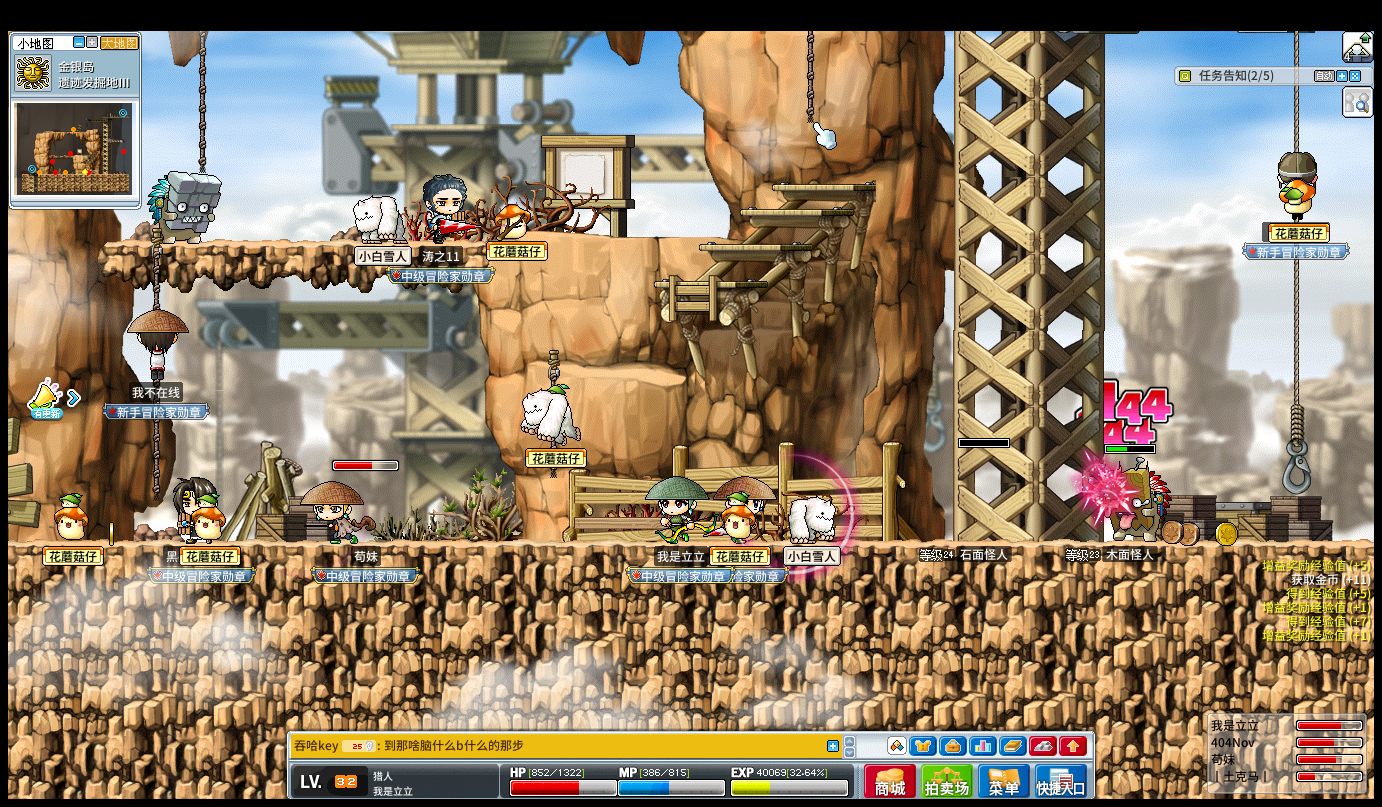floor: (8, 537, 1374, 553), (103, 238, 480, 250), (582, 364, 687, 388), (652, 279, 769, 290), (698, 242, 814, 253), (740, 207, 855, 218), (595, 232, 734, 241), (773, 183, 876, 190)
monster: (1090, 452, 1171, 540), (146, 170, 223, 244)
rope: (1292, 257, 1304, 419), (198, 33, 207, 174), (151, 420, 164, 500), (803, 31, 814, 125), (151, 234, 164, 308), (806, 31, 815, 124), (1293, 31, 1299, 151), (151, 415, 159, 498), (1289, 400, 1304, 444)
